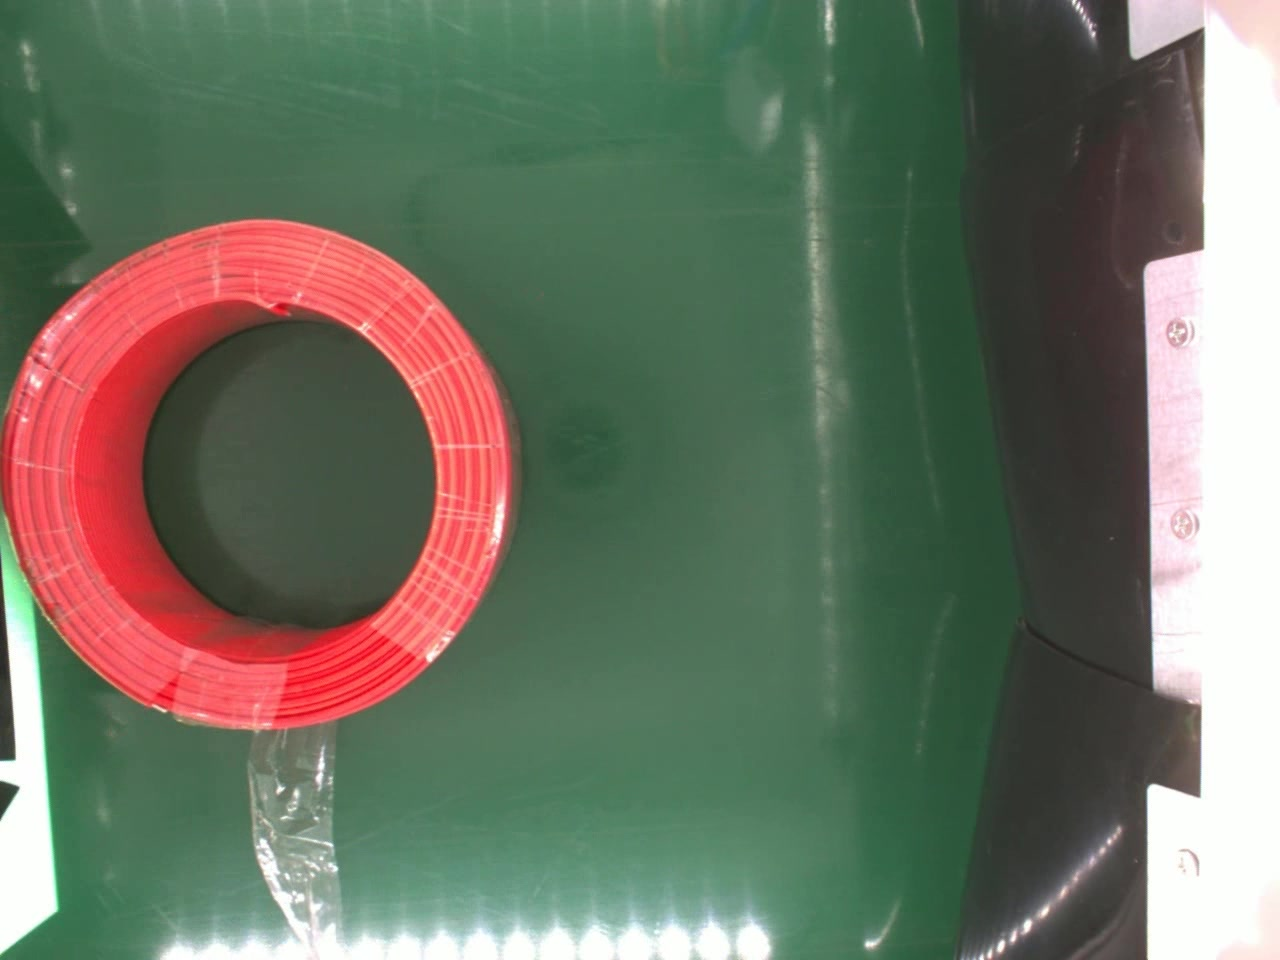red: (0, 214, 520, 737)
